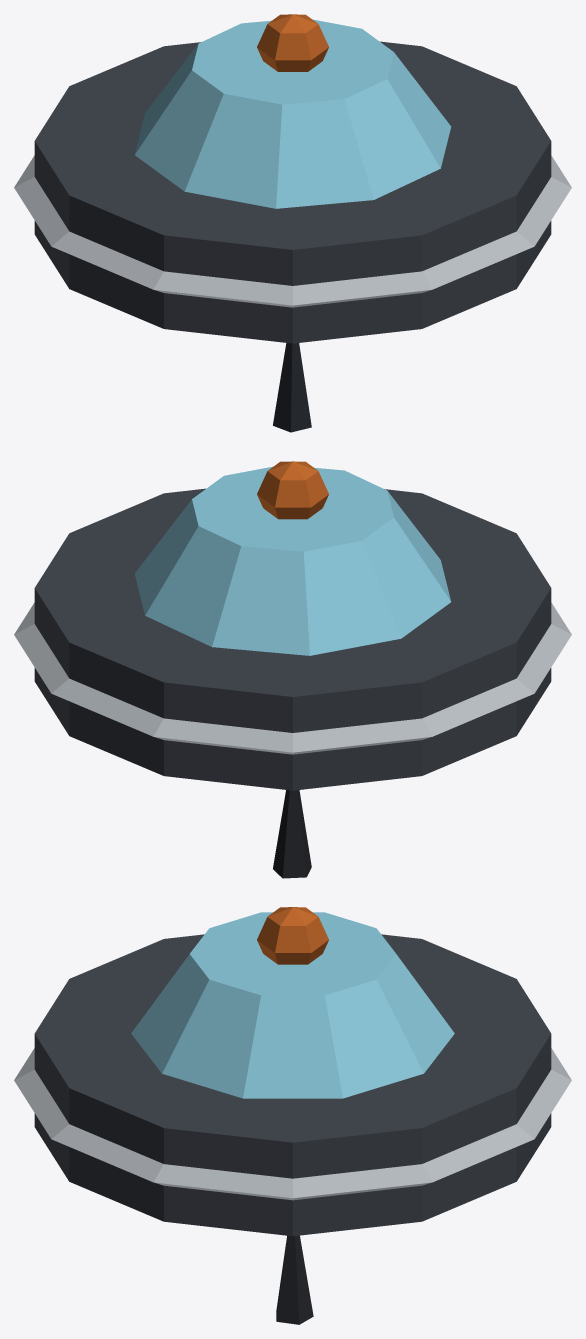
Rendered from mine-cryo.glb.
The picture shows the model from 3 angles, top to bottom: view 1: azimuth 30°, elevation 25°; view 2: azimuth 150°, elevation 25°; view 3: azimuth 270°, elevation 25°; orthographic projection.
Parts seen in each view (by area): view 1: m; view 2: m; view 3: m.
Boxes of the visible parts, left/top/right/bottom form: m: left=14, top=14, right=571, bottom=432; m: left=14, top=461, right=571, bottom=878; m: left=14, top=907, right=571, bottom=1324.
Bounding box in the file's own units: 0.1 × 0.0611 × 0.1.
